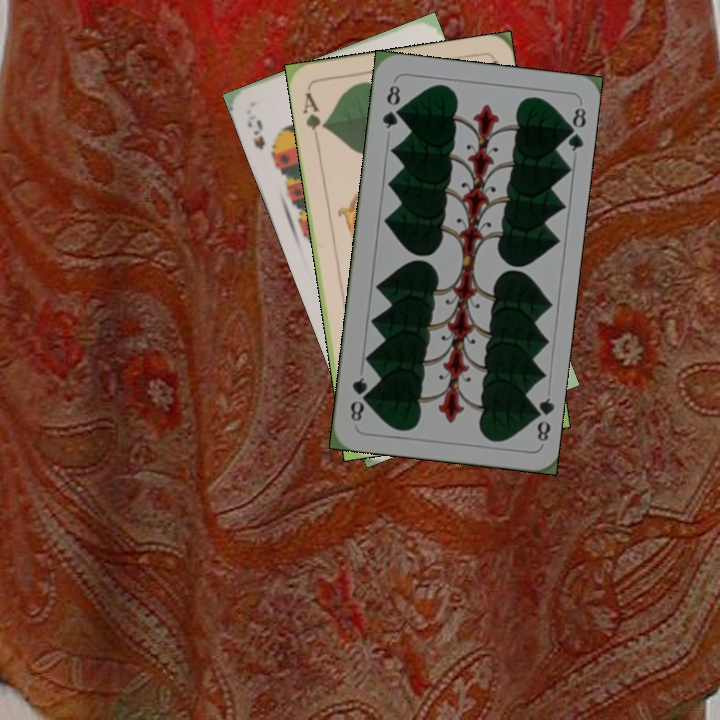G8: (526, 394, 556, 444), (378, 81, 403, 131)
GA: (299, 88, 329, 145)
S9: (249, 115, 281, 164)
